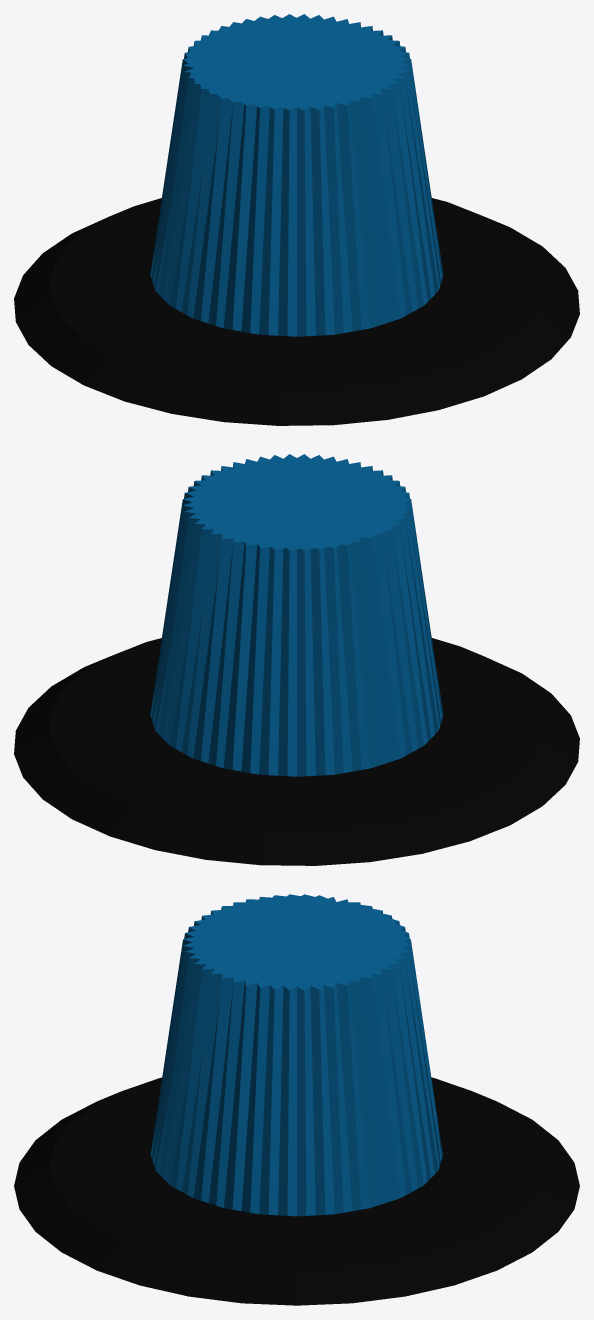
The model's file is props.fbx_reg.fbx.
3 renders of one model, top to bottom at view 1: azimuth 30°, elevation 25°; view 2: azimuth 150°, elevation 25°; view 3: azimuth 270°, elevation 25°, orthographic.
Visible parts, largest first — view 1: Cylinder.012, Circle.026; view 2: Cylinder.012, Circle.026; view 3: Cylinder.012, Circle.026.
Boxes of the visible parts, x1,y1,x2,y2 form: Cylinder.012: [150, 14, 443, 336]; Circle.026: [14, 198, 579, 425]; Cylinder.012: [150, 454, 443, 776]; Circle.026: [14, 638, 579, 865]; Cylinder.012: [150, 894, 443, 1216]; Circle.026: [14, 1077, 579, 1305].
Size of the model in its own units: 0.6411 by 0.3044 by 0.6411.
